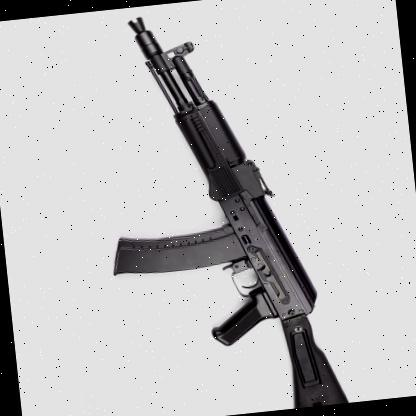rifle: (70, 0, 360, 416)
